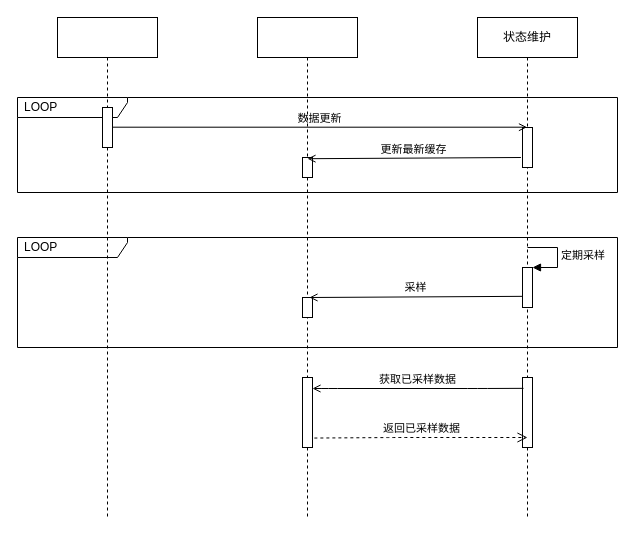
The diagram is 635 pixels wide and 535 high, and some of its shapes have lost their labels. Each missing label, with the box of its shape:
Vehicle Data: (56, 16, 158, 518)
数据管理: (256, 16, 358, 518)
